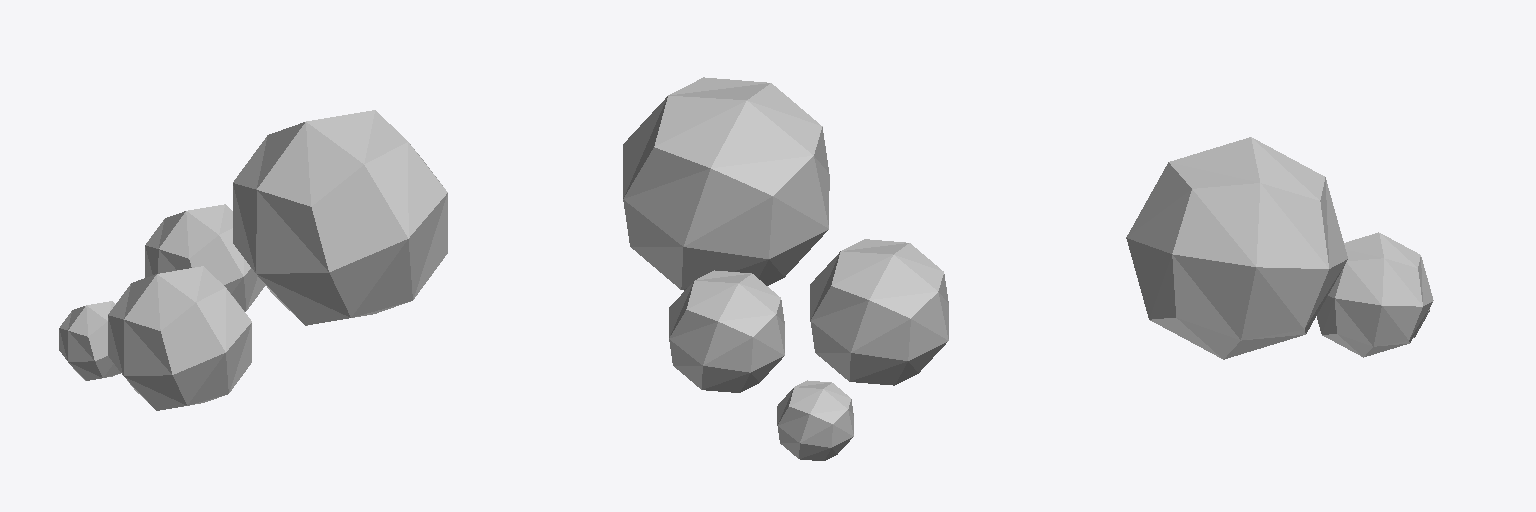
The model's file is mesh_pearls.obj.
3 views of the same model, side by side, from view 1: azimuth 30°, elevation 25°; view 2: azimuth 150°, elevation 25°; view 3: azimuth 270°, elevation 25° (orthographic).
Parts seen in each view (by area): view 1: polySurface165 pearl group3, pearl group3 polySurface166, pearl group3 polySurface167, pearl group3 polySurface168; view 2: polySurface165 pearl group3, pearl group3 polySurface166, pearl group3 polySurface167, pearl group3 polySurface168; view 3: polySurface165 pearl group3, pearl group3 polySurface167.
Boxes of the visible parts, <box> form: polySurface165 pearl group3: <box>233,110,447,325</box>; pearl group3 polySurface166: <box>108,266,251,410</box>; pearl group3 polySurface167: <box>145,204,265,311</box>; pearl group3 polySurface168: <box>59,301,120,380</box>; polySurface165 pearl group3: <box>623,77,829,290</box>; pearl group3 polySurface166: <box>810,239,948,385</box>; pearl group3 polySurface167: <box>669,270,784,392</box>; pearl group3 polySurface168: <box>777,380,853,460</box>; polySurface165 pearl group3: <box>1126,137,1347,359</box>; pearl group3 polySurface167: <box>1317,232,1433,357</box>.
Size of the model in its own units: 3.77 by 3.14 by 3.21.